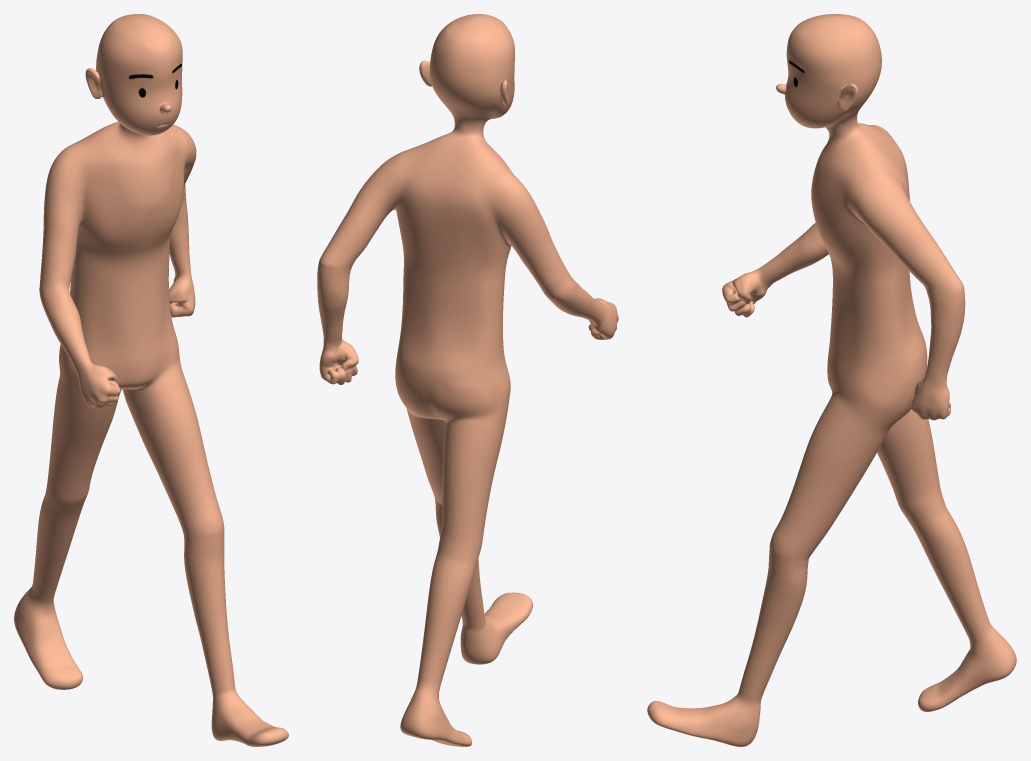
The model's file is Body.glb.
3 views of the same model, side by side, from view 1: azimuth 30°, elevation 25°; view 2: azimuth 150°, elevation 25°; view 3: azimuth 270°, elevation 25° (orthographic). The views are drawn at different scales.
Parts seen in each view (by area): view 1: IVY BODY 02; view 2: IVY BODY 02; view 3: IVY BODY 02.
Boxes of the visible parts, x1,y1,x2,y2 form: IVY BODY 02: (14, 14, 288, 746); IVY BODY 02: (317, 14, 618, 746); IVY BODY 02: (647, 14, 1016, 746).
Bounding box in the file's own units: 0.9544 × 3.12 × 1.48.
Materials: 1 (1 with a texture image).
